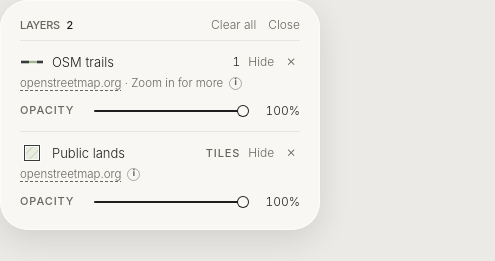
LayerStack › lists layers top first with count or tiles, and one line of source and coverage with the licence behind the i
Check: the element with test id "layer-count" reads "1", box left=232, top=54, right=240, bottom=69
Check: the element with test id "layer-source" shows "Zoom in for more", box left=131, top=76, right=223, bottom=90
What coordinates should you click on to do the following:
click the button named "About the source of OSM trails"
I would click on:
 (236, 83)
Its box is left=229, top=76, right=242, bottom=90.
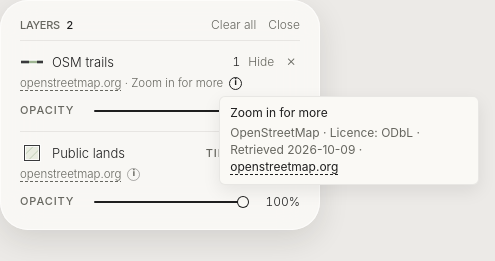
Check: the element with test id "info-popover" shows "Zoom in for more", box left=230, top=104, right=328, bottom=120
Check: the element with test id "info-popover" shows "Licence: ODbL", box left=230, top=125, right=420, bottom=157
Check: the element with test id "info-popover" shows "OpenStreetMap", box left=230, top=125, right=420, bottom=157
